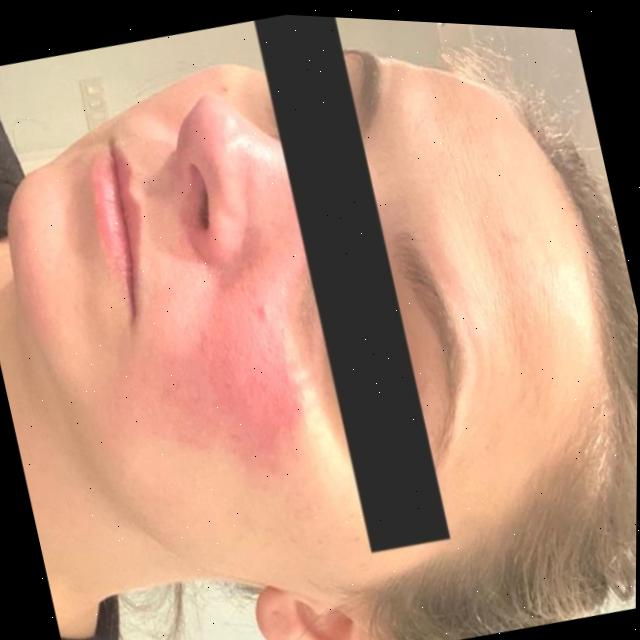Rosacea: (175, 293, 308, 485)
